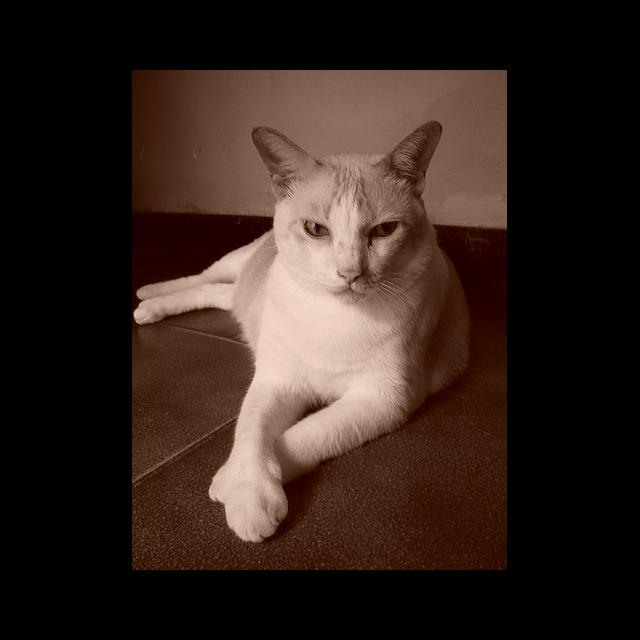animals: (256, 122, 437, 281)
